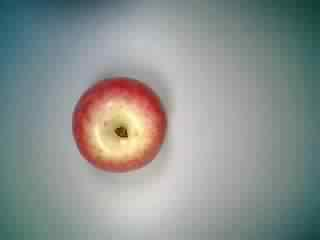apple: (65, 73, 169, 177)
